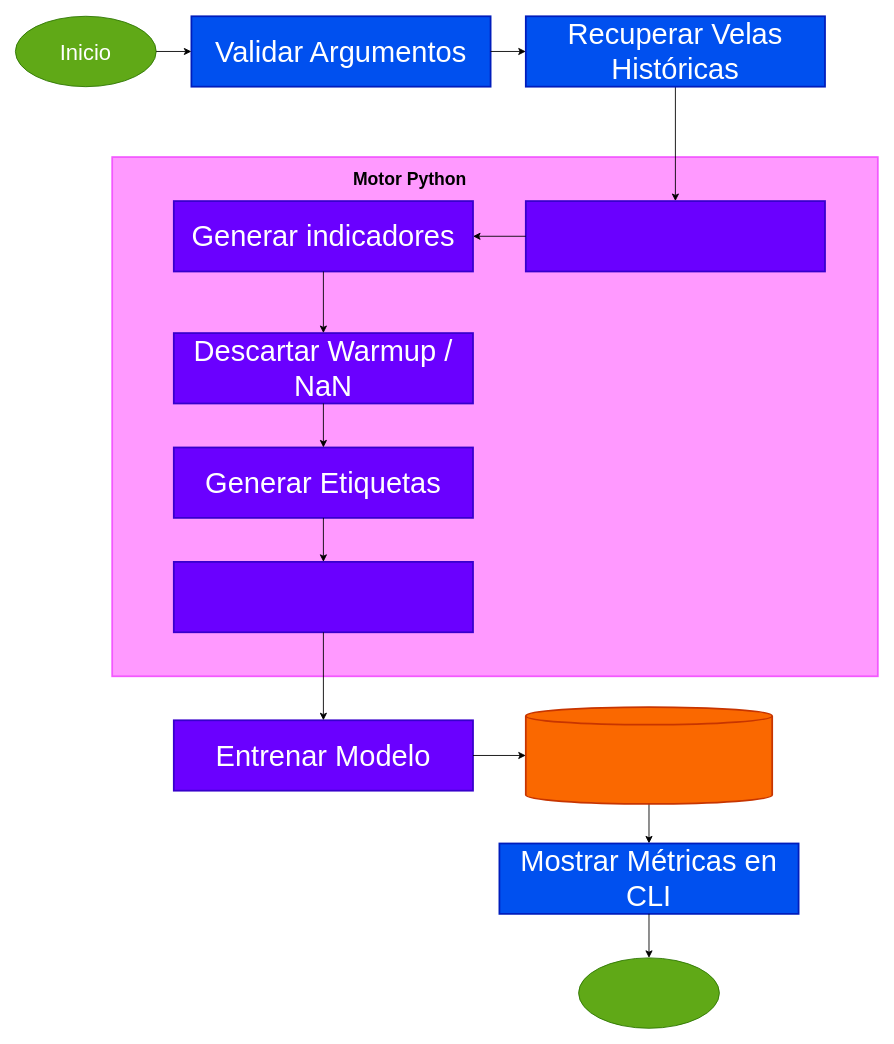
Image size: 894x1044. Some labels were removed from this diagram. The shapes that lost their labels are listed below. From the top down, each one's centre as x and y in pixels, then its label:
At (x=674, y=236): "Construir DataFrame".
At (x=322, y=597): "Split 80% Train / 20% Test".
At (x=648, y=755): "Serializar Modelo".
At (x=648, y=992): "Fin".
